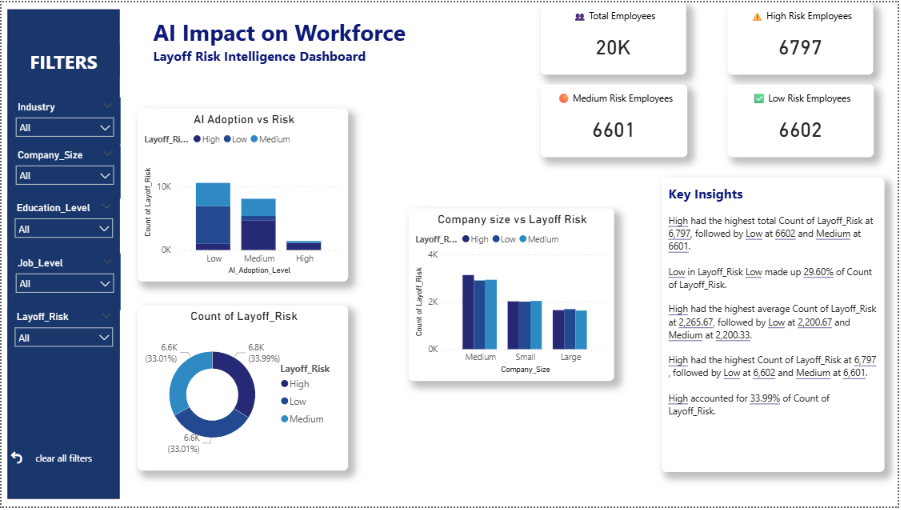

This screenshot's page, from the dashboard's own definition file:
{"tool":"powerbi","page":{"name":"Executive Dashboard","canvas":[1280,720],"ordinal":5},"visuals":[{"type":"shape","box":[8.7,10,160,699.1],"z":0},{"type":"textbox","box":[8.4,61.4,160.2,45.8],"z":1000},{"type":"slicer","fields":{"Values":["AI_Impact_Cleaned.Industry"]},"box":[9.6,136.1,160.2,67.5],"z":2000},{"type":"slicer","fields":{"Values":["AI_Impact_Cleaned.Company_Size"]},"box":[9.6,203.6,160.2,75.9],"z":3000},{"type":"slicer","fields":{"Values":["AI_Impact_Cleaned.Education_Level"]},"box":[8.4,279.5,160.2,80.7],"z":4000},{"type":"slicer","fields":{"Values":["AI_Impact_Cleaned.Job_Level"]},"box":[9.6,359,160.2,80.7],"z":5000},{"type":"slicer","fields":{"Values":["AI_Impact_Cleaned.Layoff_Risk"]},"box":[8.4,436.1,160.2,74.7],"z":6000},{"type":"card","fields":{"Values":["AI_Impact_Cleaned.Total Employees"]},"box":[770,0,207.7,103.2],"z":7000},{"type":"card","fields":{"Values":["AI_Impact_Cleaned.High Risk Employees"]},"box":[1037.5,0,207.7,103.2],"z":8000},{"type":"card","fields":{"Values":["AI_Impact_Cleaned.Medium Risk Employees"]},"box":[769.9,116.9,209.6,103.6],"z":9000},{"type":"card","fields":{"Values":["AI_Impact_Cleaned.Low Risk Employees"]},"box":[1037.3,116.9,208.4,103.6],"z":10000},{"type":"columnChart","title":"AI Adoption vs Risk","fields":{"Category":["AI_Impact_Cleaned.AI_Adoption_Level"],"Y":["CountNonNull(AI_Impact_Cleaned.Layoff_Risk)"],"Series":["AI_Impact_Cleaned.Layoff_Risk"]},"box":[194.1,151.8,301,247.5],"z":11000},{"type":"textbox","box":[210.8,15.7,471.1,91.6],"z":12000},{"type":"clusteredColumnChart","title":"Company size vs Layoff Risk","fields":{"Category":["AI_Impact_Cleaned.Company_Size"],"Y":["CountNonNull(AI_Impact_Cleaned.Layoff_Risk)"],"Series":["AI_Impact_Cleaned.Layoff_Risk"]},"box":[580.9,293.6,293.6,246.3],"z":13000},{"type":"donutChart","title":"Count of Layoff_Risk ","fields":{"Category":["AI_Impact_Cleaned.Layoff_Risk"],"Y":["CountNonNull(AI_Impact_Cleaned.Layoff_Risk)"]},"box":[194.1,432.9,301,236.4],"z":14000},{"type":"textbox","box":[942.2,249.4,318.1,420.5],"z":15000},{"type":"actionButton","box":[8.4,630.1,160.2,39.8],"z":16000}]}

Visuals, with their boxes in screenshot pixels (x1, y1, x2, y2), scaled from the page's 1280x720 canvas onto the 901x510 screenshot:
shape: 6/7/119/502
textbox: 6/43/119/76
slicer - AI_Impact_Cleaned.Industry: 7/96/120/144
slicer - AI_Impact_Cleaned.Company_Size: 7/144/120/198
slicer - AI_Impact_Cleaned.Education_Level: 6/198/119/255
slicer - AI_Impact_Cleaned.Job_Level: 7/254/120/311
slicer - AI_Impact_Cleaned.Layoff_Risk: 6/309/119/362
card - AI_Impact_Cleaned.Total Employees: 542/0/688/73
card - AI_Impact_Cleaned.High Risk Employees: 730/0/877/73
card - AI_Impact_Cleaned.Medium Risk Employees: 542/83/689/156
card - AI_Impact_Cleaned.Low Risk Employees: 730/83/877/156
"AI Adoption vs Risk" columnChart: 137/108/349/283
textbox: 148/11/480/76
"Company size vs Layoff Risk" clusteredColumnChart: 409/208/616/382
"Count of Layoff_Risk " donutChart: 137/307/349/474
textbox: 663/177/887/475
actionButton: 6/446/119/475
